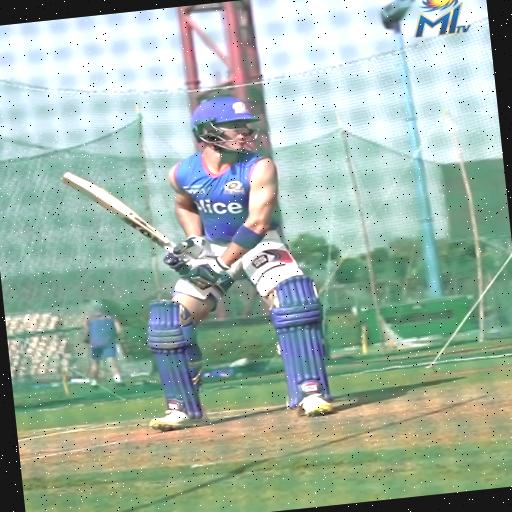Cricket bat: (63, 172, 174, 251)
